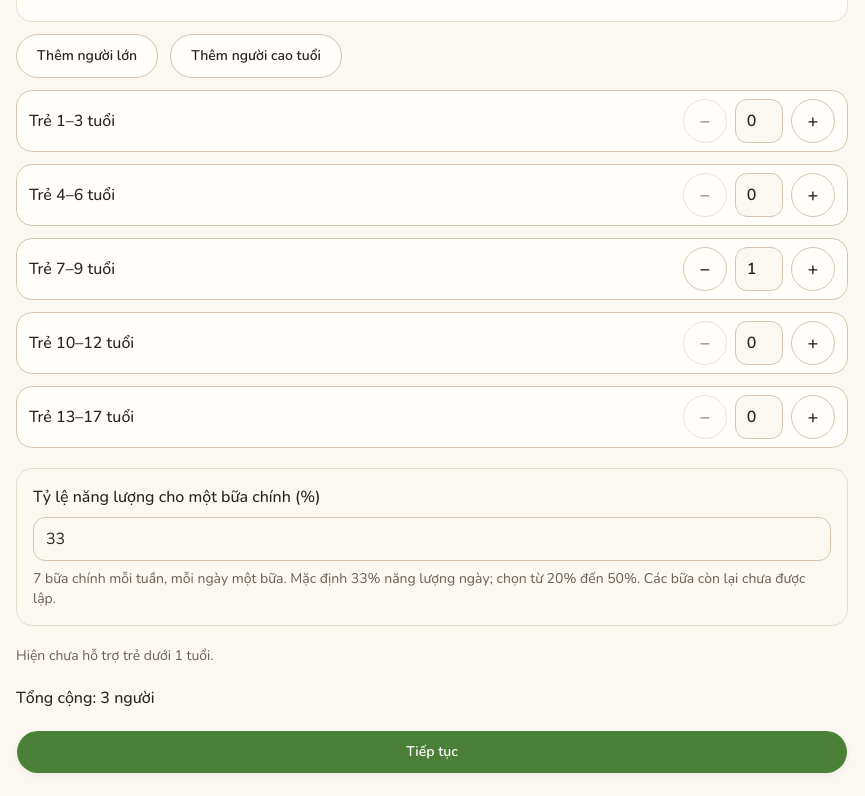
Test: HouseholdSettingsPage › does not overwrite a stale version and reloads only after confirmation
(page scrolled)
Click the button "Tiếp tục".
click(432, 752)  # box 16,730 -> 848,774
(page scrolled)
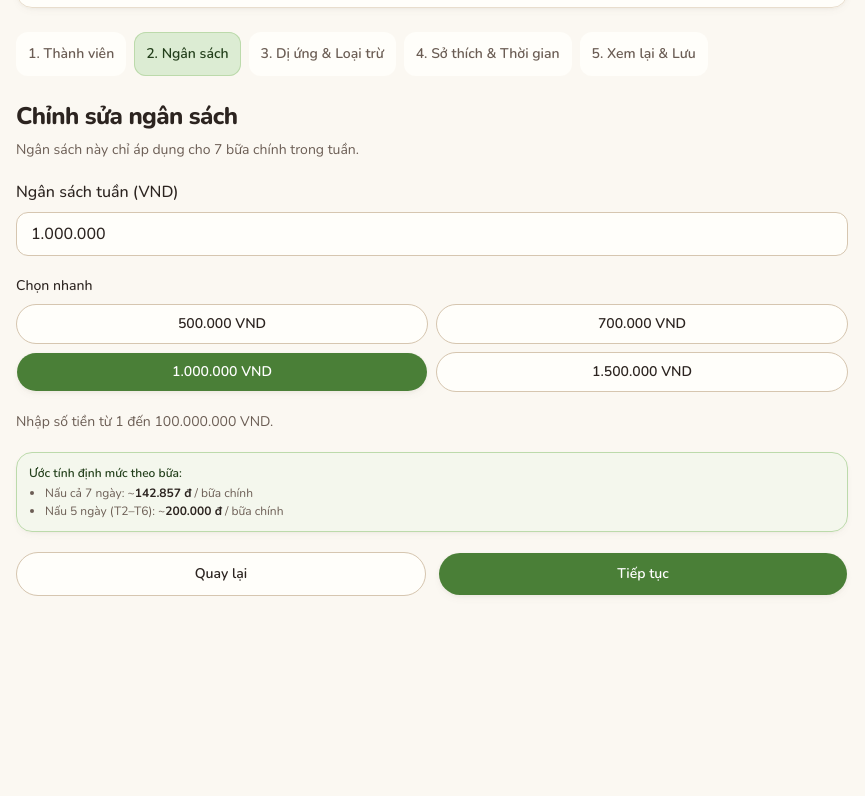
Click the button "Tiếp tục".
click(643, 574)  # box 438,552 -> 848,596
(page scrolled)
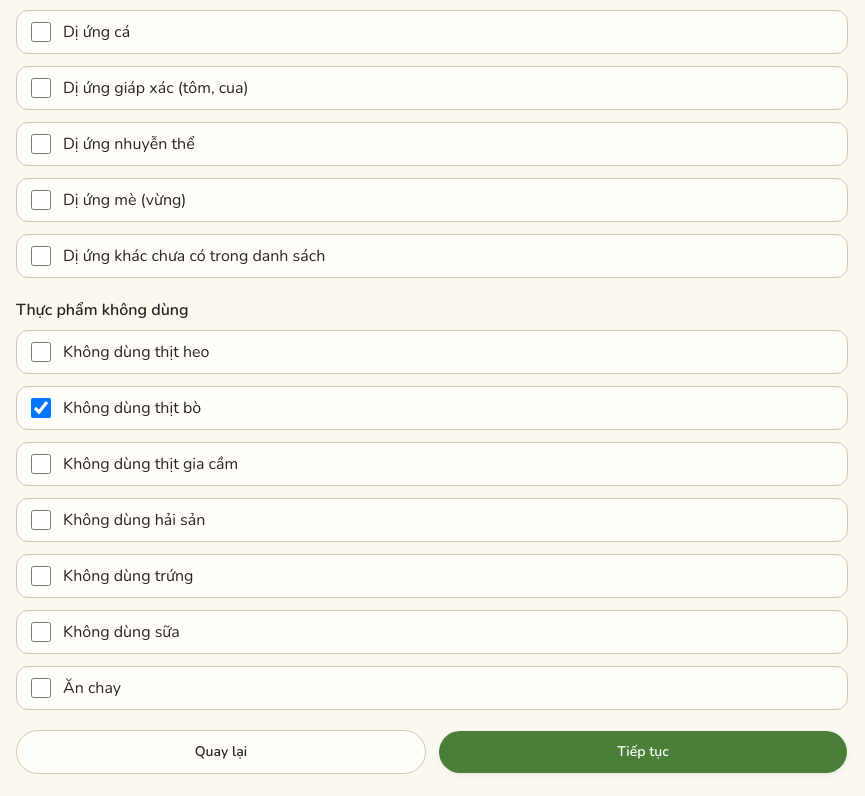
Click the button "Tiếp tục".
click(643, 752)  # box 438,730 -> 848,774
(page scrolled)
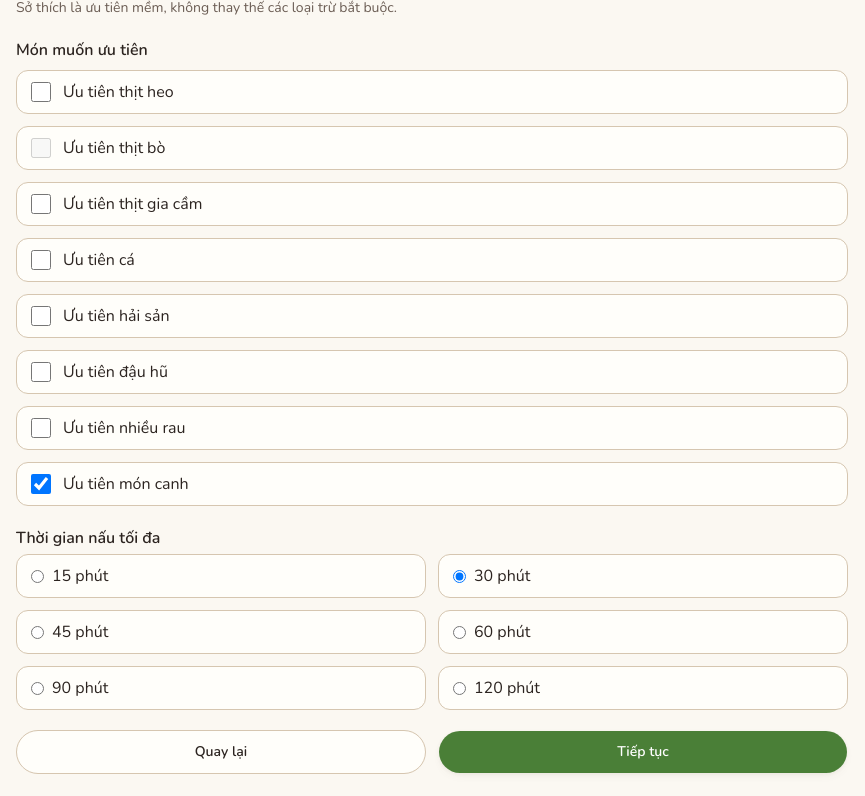
Click the button "Tiếp tục".
click(643, 752)  # box 438,730 -> 848,774
(page scrolled)
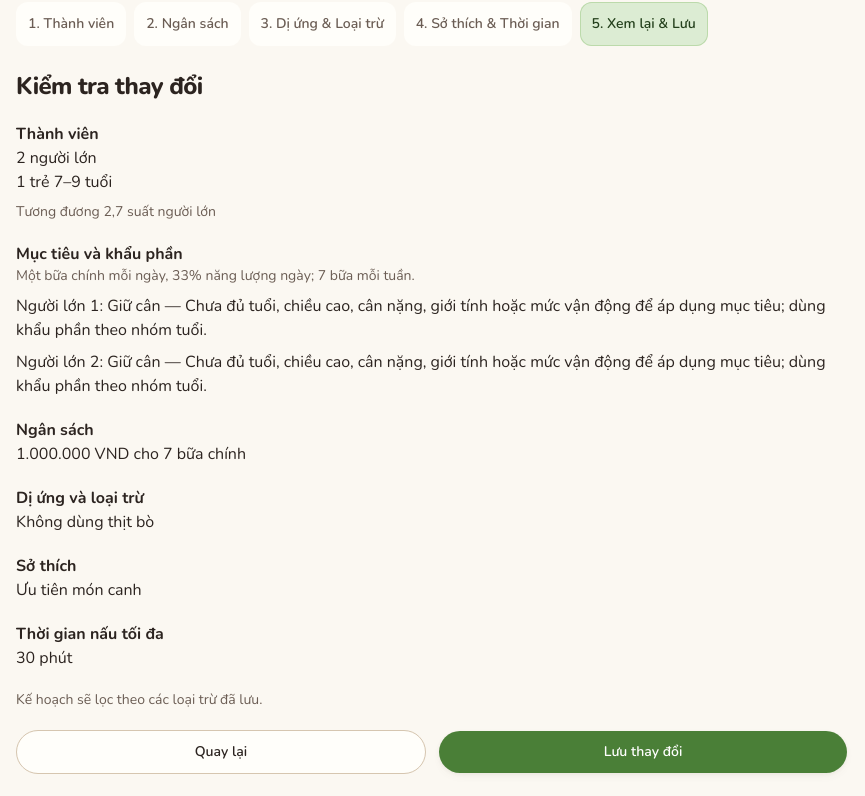
Expected: the heading "Kiểm tra thay đổi" is shown, 16,70 -> 203,102
Click the button "Lưu thay đổi".
click(643, 752)  # box 438,730 -> 848,774
(page scrolled)
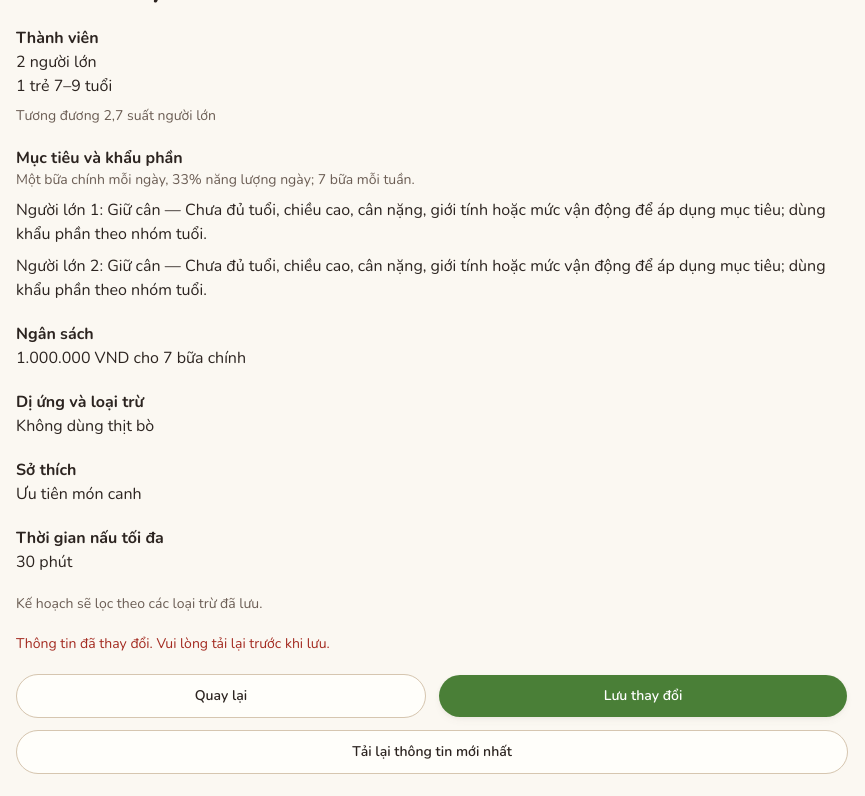
Expected: the message shows "đã thay đổi", 16,634 -> 330,653
Click the button "Tải lại thông tin mới nhất".
click(432, 752)  # box 16,730 -> 848,774
(page scrolled)
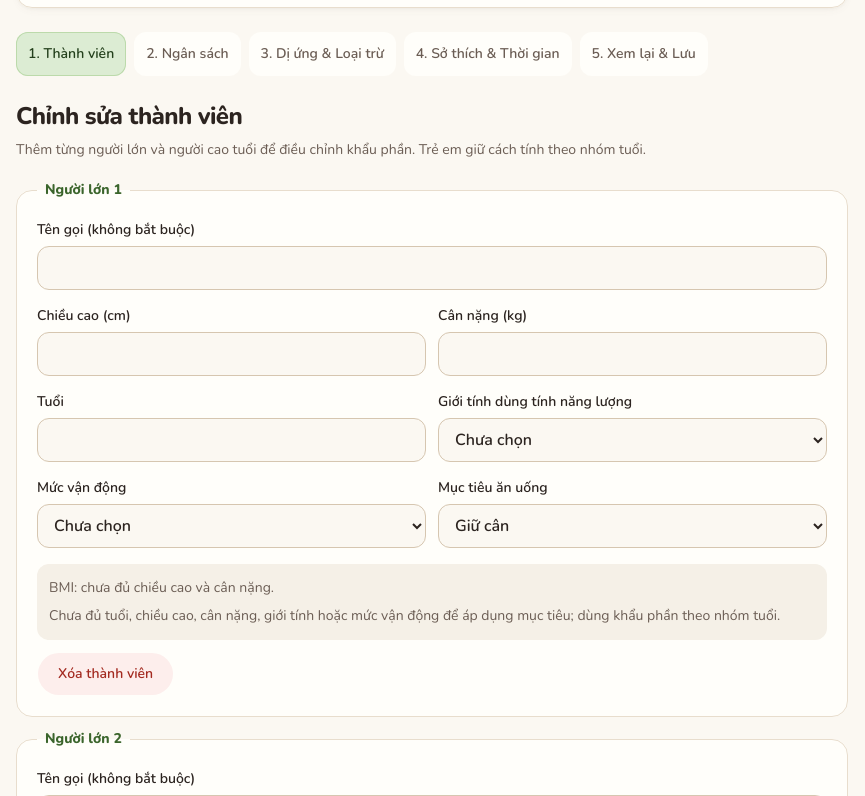
Expected: the number of fields labelled "Cân nặng (kg)" is 3
